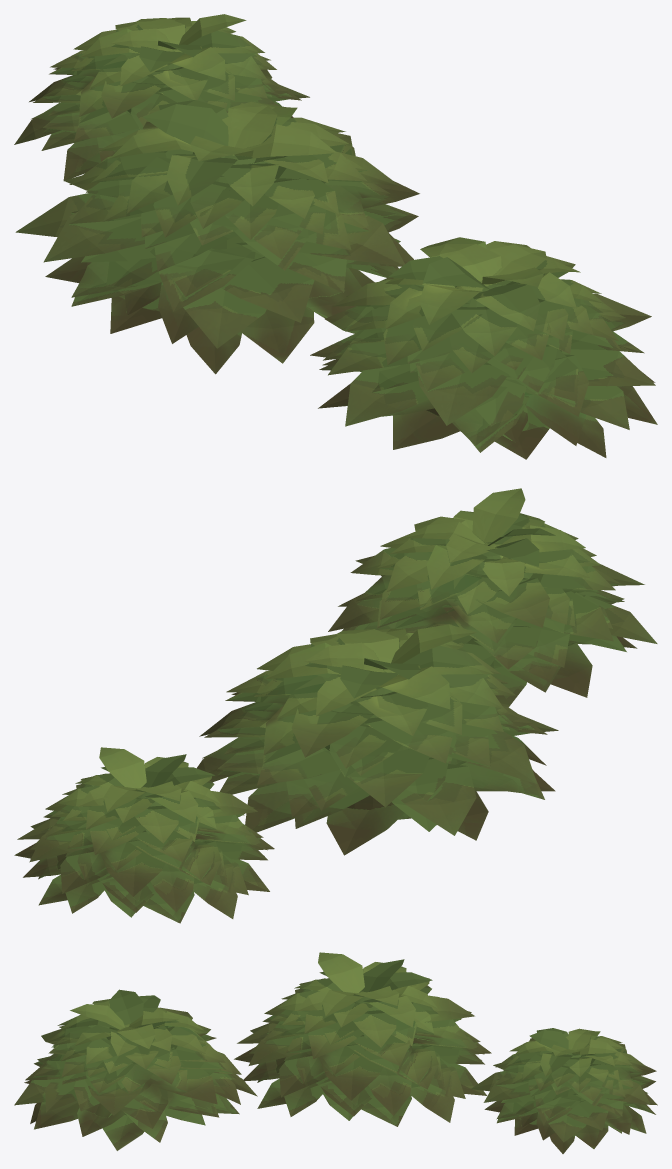
Rendered from bushes-r.fbx.
The picture shows the model from 3 angles, top to bottom: view 1: azimuth 30°, elevation 25°; view 2: azimuth 150°, elevation 25°; view 3: azimuth 270°, elevation 25°; orthographic projection. The views are drawn at different scales.
Parts seen in each view (by area): view 1: Plane.007, Plane.030, Plane.009; view 2: Plane.007, Plane.030, Plane.009; view 3: Plane.007, Plane.030, Plane.009.
Boxes of the visible parts, left/top/right/bottom form: Plane.007: left=15, top=100, right=419, bottom=374; Plane.030: left=310, top=237, right=657, bottom=459; Plane.009: left=14, top=14, right=309, bottom=180; Plane.007: left=197, top=624, right=558, bottom=855; Plane.030: left=328, top=488, right=657, bottom=705; Plane.009: left=14, top=747, right=274, bottom=923; Plane.007: left=234, top=952, right=491, bottom=1126; Plane.030: left=14, top=989, right=257, bottom=1150; Plane.009: left=471, top=1028, right=657, bottom=1153.
Size of the model in its own units: 592 by 246 by 1242.
